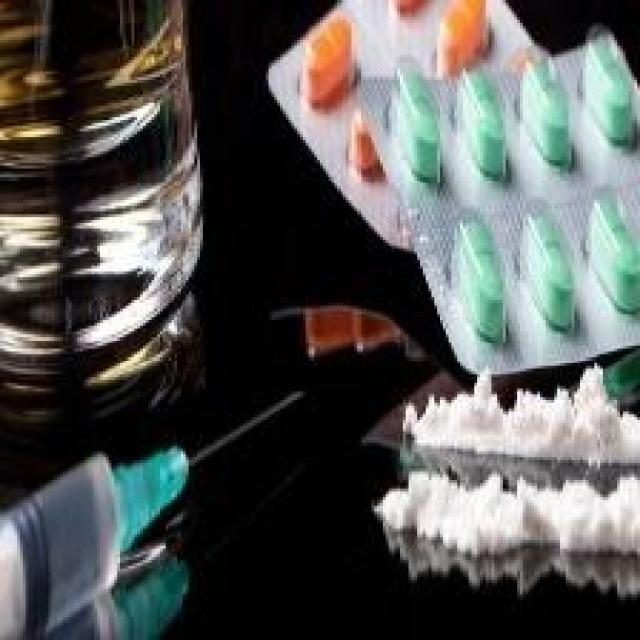Medicine: (257, 0, 640, 600)
